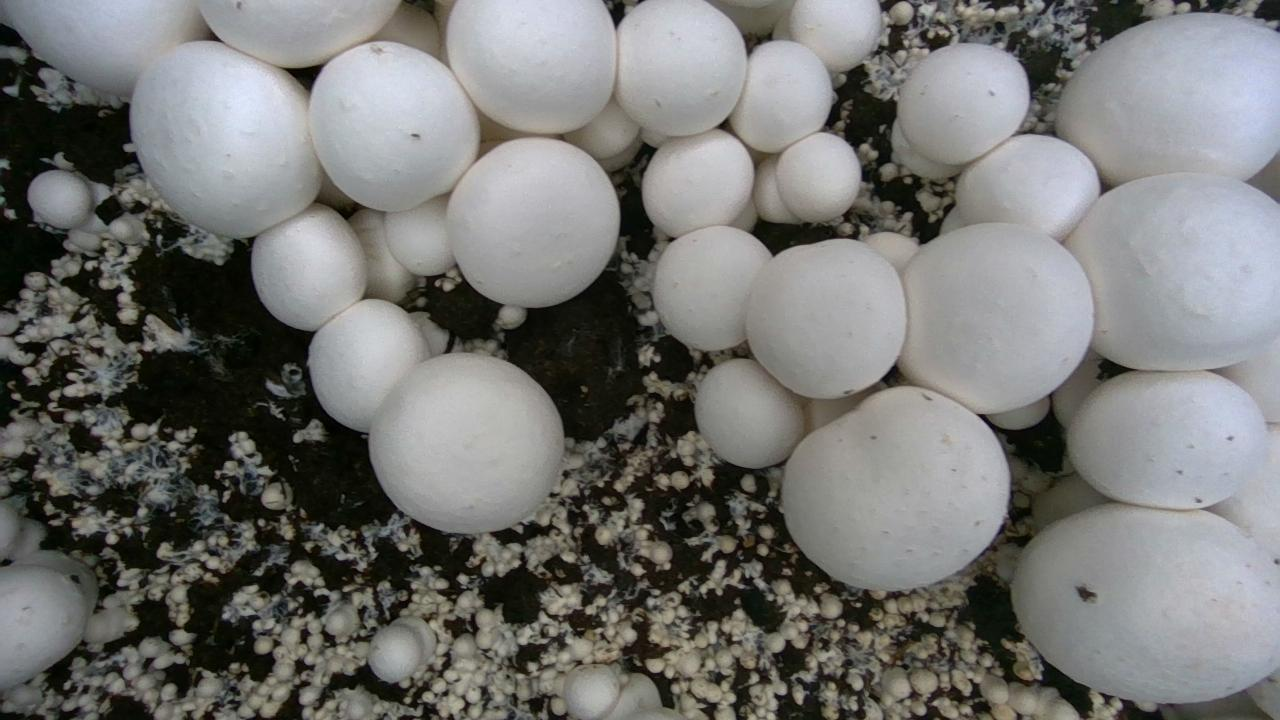WB: (1012, 503, 1279, 702), (782, 387, 1009, 589), (1065, 173, 1279, 370), (1056, 13, 1279, 184), (130, 41, 322, 237), (898, 223, 1093, 412), (369, 353, 563, 533), (446, 137, 619, 307), (308, 41, 479, 211), (1067, 371, 1266, 509), (745, 239, 905, 398), (446, 0, 616, 133), (4, 0, 208, 96), (615, 0, 746, 136), (308, 299, 430, 431), (897, 43, 1029, 164), (956, 135, 1099, 240), (653, 226, 771, 350), (251, 203, 366, 330), (198, 0, 400, 67), (642, 129, 753, 237), (695, 359, 804, 467), (729, 40, 832, 152), (0, 565, 88, 690), (1208, 424, 1279, 560), (776, 132, 860, 222), (789, 0, 880, 71), (348, 208, 413, 302), (384, 194, 455, 275), (1216, 336, 1279, 422), (368, 617, 436, 682), (27, 170, 97, 228), (563, 665, 619, 719)
